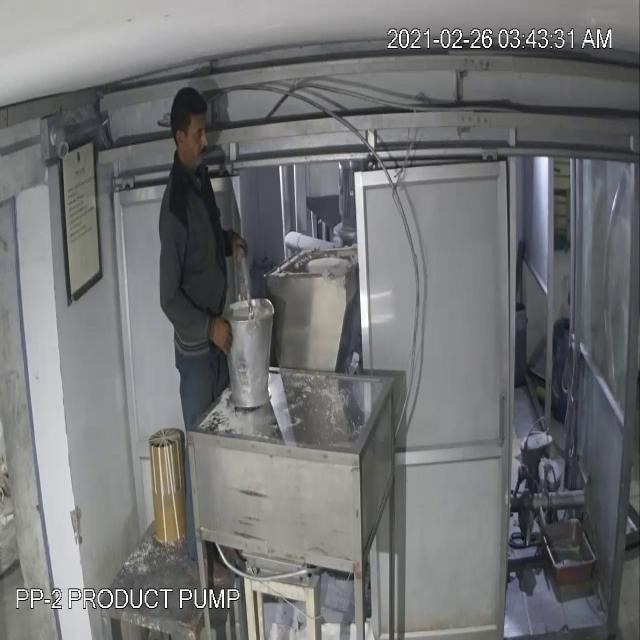no-helmet: (168, 76, 214, 172)
